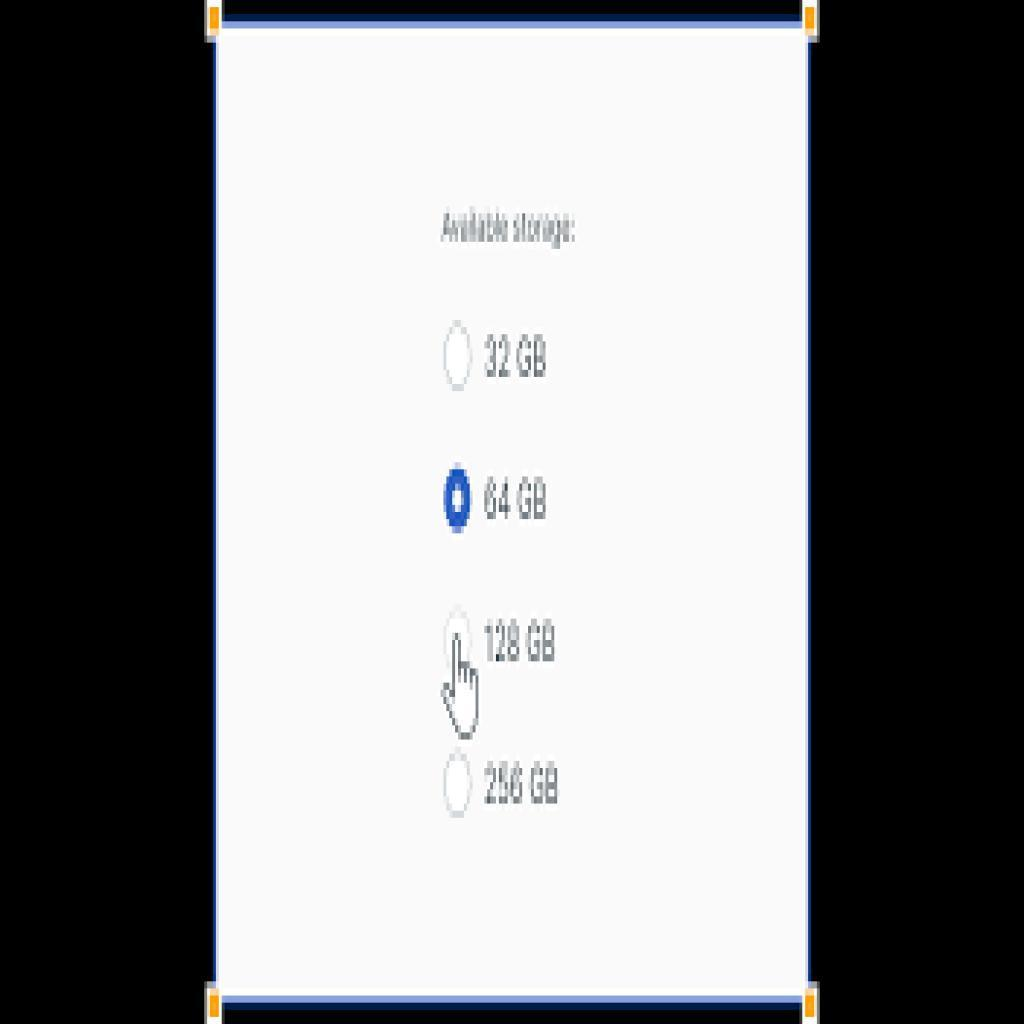label: (441, 208, 579, 254), (481, 759, 564, 809), (484, 474, 551, 526), (481, 332, 550, 382), (485, 619, 558, 664)
radio: (442, 319, 477, 393), (442, 747, 476, 821), (443, 463, 473, 537)
